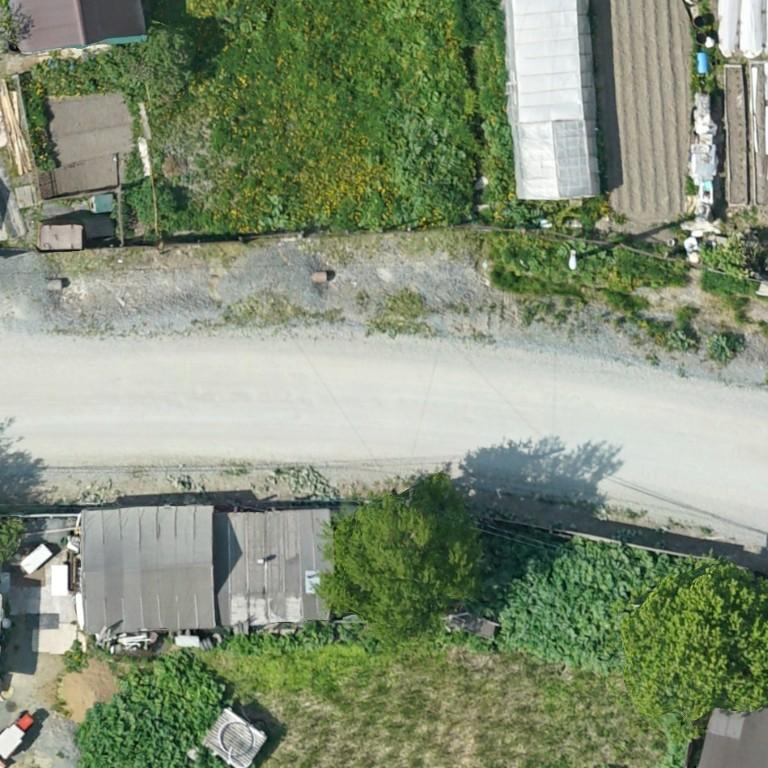hogweed: (493, 538, 686, 670), (75, 650, 229, 767), (387, 105, 473, 228), (228, 622, 354, 655)
